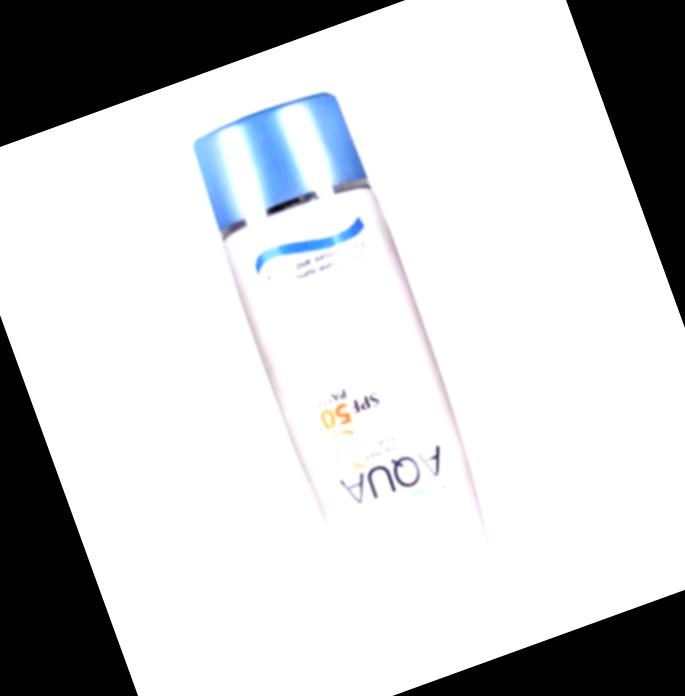cosmetic: (180, 84, 519, 644)
